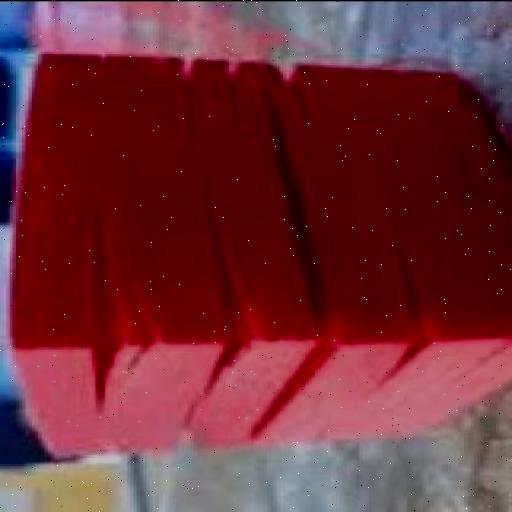cracks: (237, 68, 339, 450), (118, 40, 368, 148), (174, 202, 266, 412), (74, 186, 156, 418), (362, 204, 448, 406)
